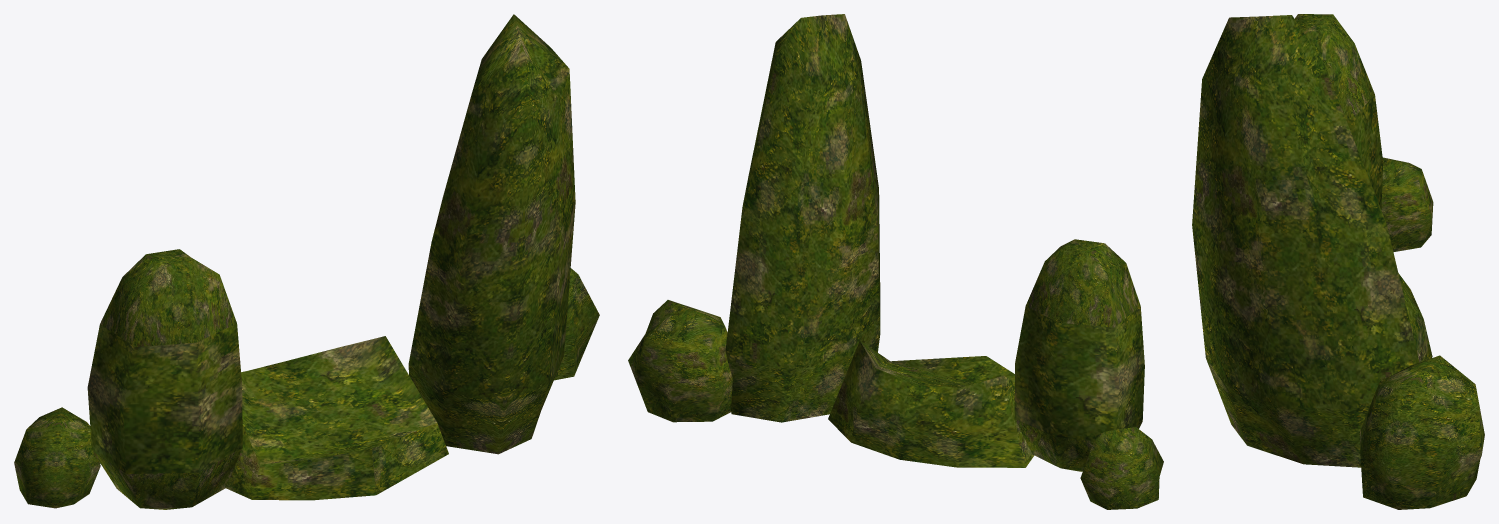
The model's file is OVERHILL_A_01_ROCK_BRIDGE_BASE.fbx.
The picture shows the model from 3 angles, left to right: view 1: azimuth 30°, elevation 25°; view 2: azimuth 150°, elevation 25°; view 3: azimuth 270°, elevation 25°; orthographic projection. The views are drawn at different scales.
Parts seen in each view (by area): view 1: OVERHILL_A_01_ROCK_BRIDGE_BASE; view 2: OVERHILL_A_01_ROCK_BRIDGE_BASE; view 3: OVERHILL_A_01_ROCK_BRIDGE_BASE.
Boxes of the visible parts, x1=… form: OVERHILL_A_01_ROCK_BRIDGE_BASE: x1=14, y1=14, x2=599, y2=509; OVERHILL_A_01_ROCK_BRIDGE_BASE: x1=628, y1=14, x2=1163, y2=509; OVERHILL_A_01_ROCK_BRIDGE_BASE: x1=1192, y1=14, x2=1484, y2=509.
Bounding box in the file's own units: 53054 × 36228 × 21907.
2 materials, 2 textured.
